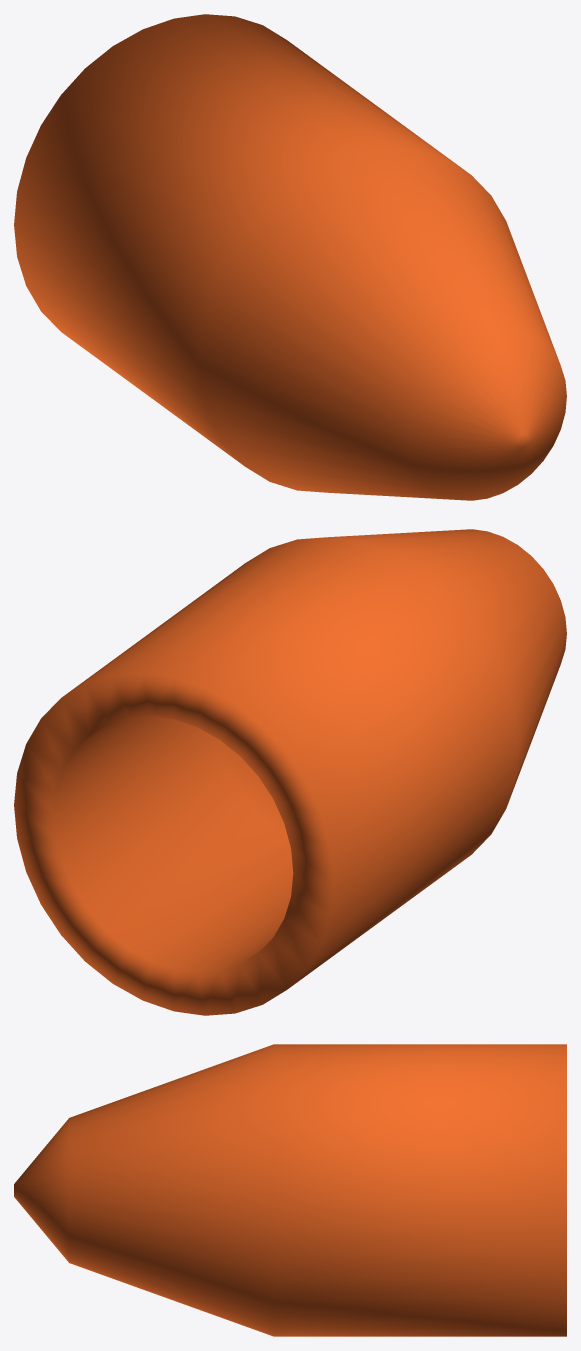
File: tank_bullet.glb
3 renders of one model, top to bottom at view 1: azimuth 30°, elevation 25°; view 2: azimuth 150°, elevation 25°; view 3: azimuth 270°, elevation 25°, orthographic. The views are drawn at different scales.
Parts seen in each view (by area): view 1: Bullet; view 2: Bullet; view 3: Bullet.
Part boxes in pixels (left/top/right/bottom): Bullet: left=14, top=14, right=566, bottom=500; Bullet: left=14, top=529, right=566, bottom=1015; Bullet: left=14, top=1044, right=566, bottom=1336.
Size of the model in its own units: 0.2782 by 0.2782 by 0.5254.
